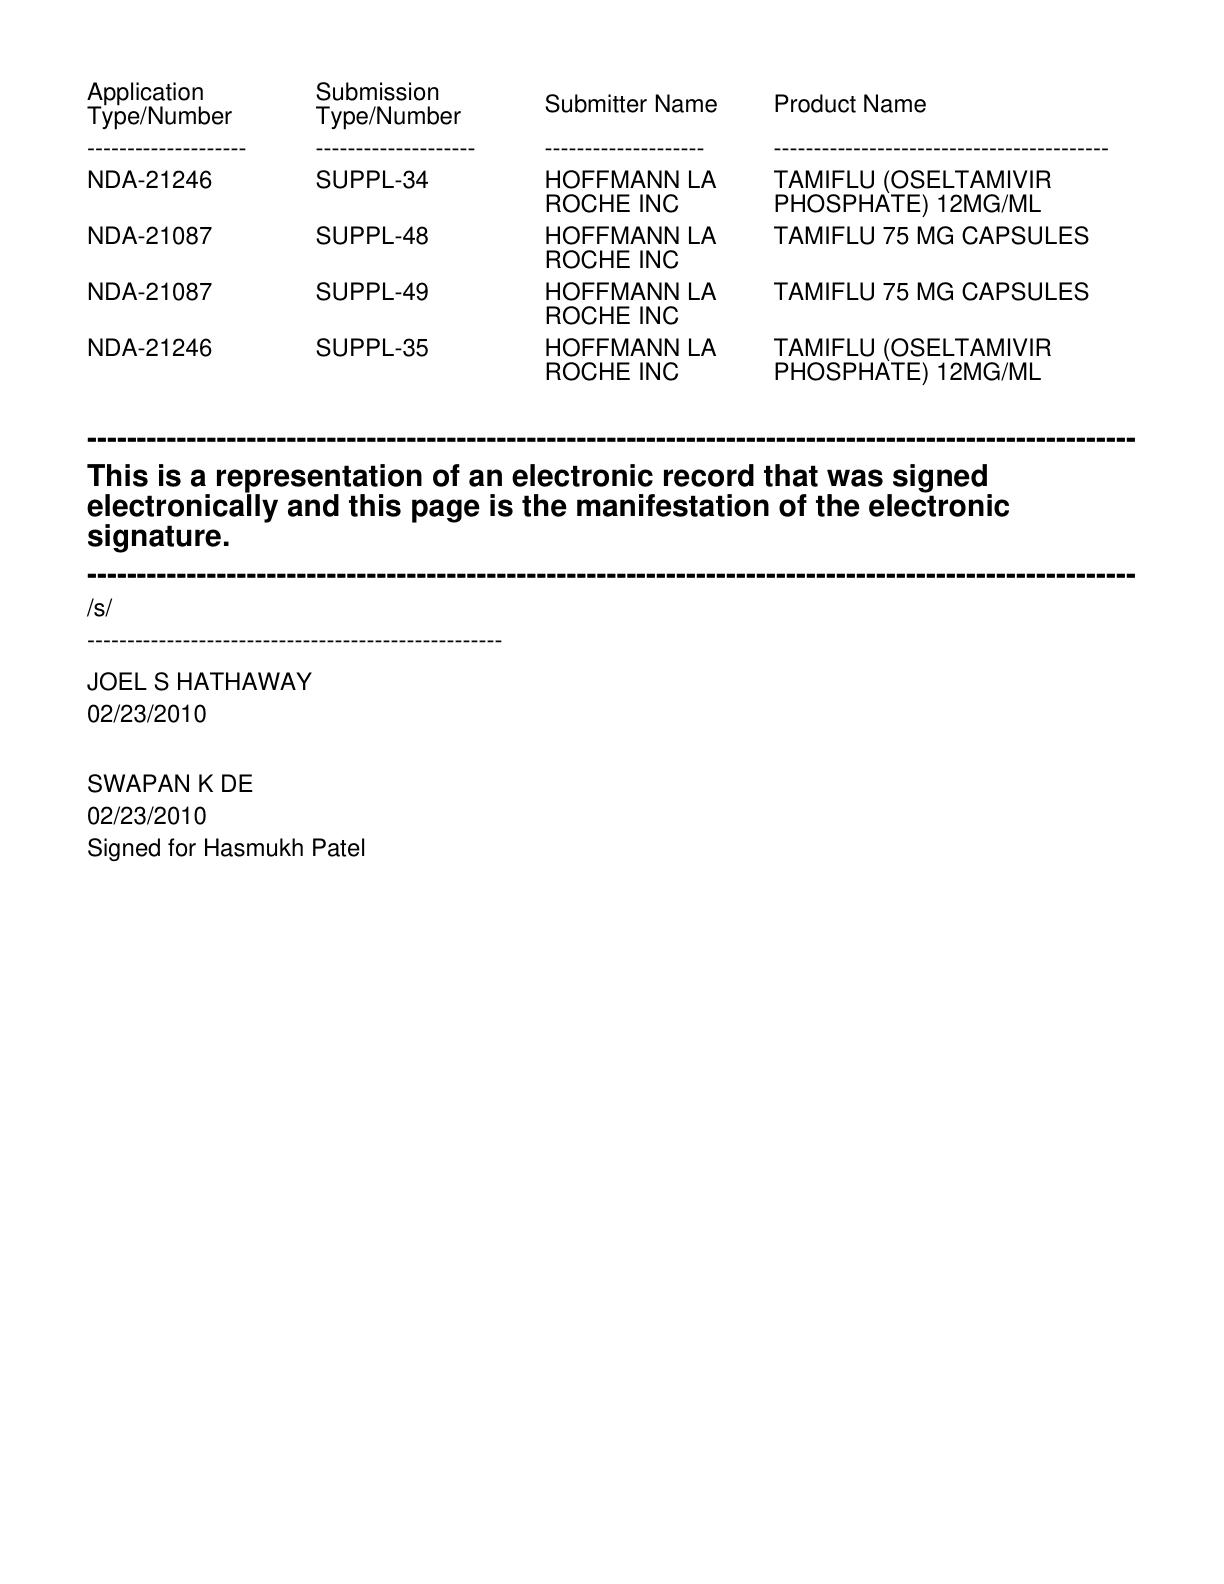nolines: (82, 78, 1108, 383)
